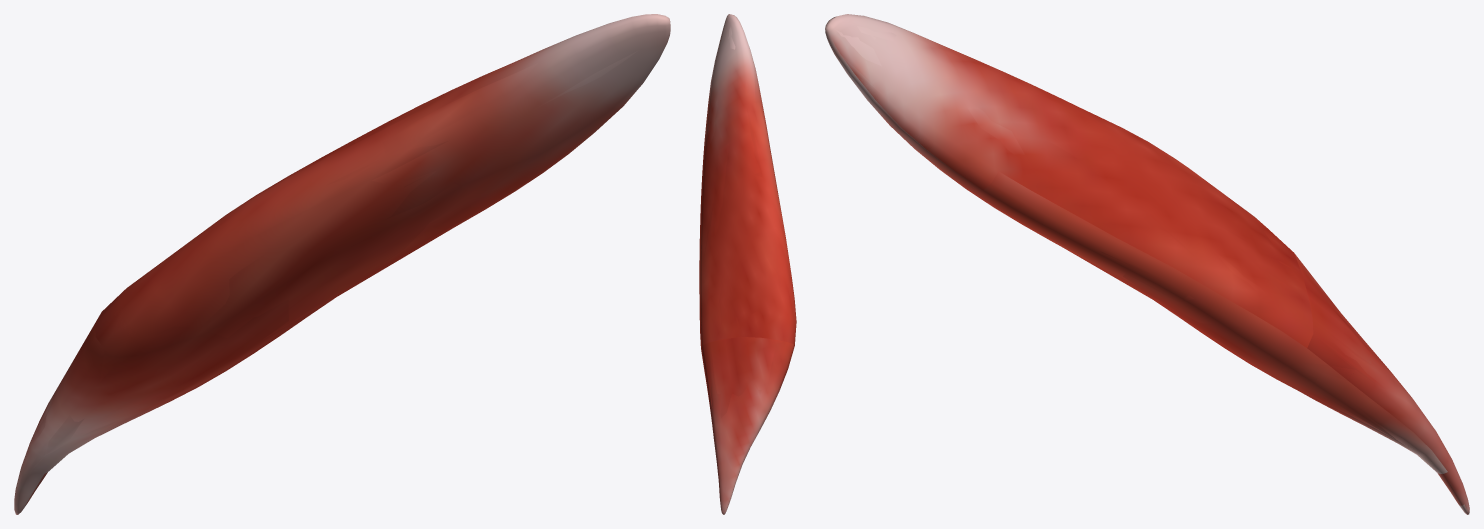
Rendered from L iliacus.fbx.
3 views of the same model, side by side, from view 1: azimuth 30°, elevation 25°; view 2: azimuth 150°, elevation 25°; view 3: azimuth 270°, elevation 25° (orthographic). The views are drawn at different scales.
Visible parts, largest first — view 1: L iliacus, L iliacus low; view 2: L iliacus, L iliacus low; view 3: L iliacus, L iliacus low.
Part boxes in pixels (left/top/right/bottom): L iliacus: left=14, top=14, right=670, bottom=514; L iliacus low: left=28, top=50, right=638, bottom=473; L iliacus: left=699, top=14, right=796, bottom=514; L iliacus low: left=699, top=18, right=794, bottom=461; L iliacus: left=825, top=14, right=1469, bottom=514; L iliacus low: left=835, top=26, right=1448, bottom=485.
Bounding box in the file's own units: 12.55 × 22.42 × 20.38.
